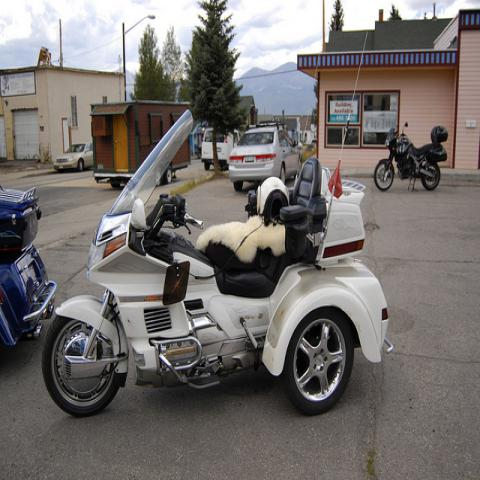car: (229, 127, 304, 192), (200, 128, 241, 171), (51, 140, 95, 174)
motorcycle: (40, 110, 396, 422), (2, 190, 53, 353), (375, 122, 448, 192)
truck: (91, 102, 192, 190), (276, 116, 300, 146)
